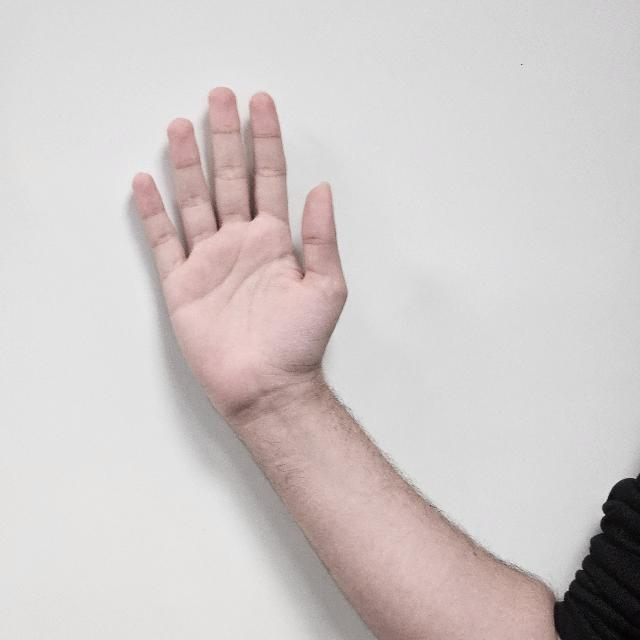X: (128, 85, 350, 427)
